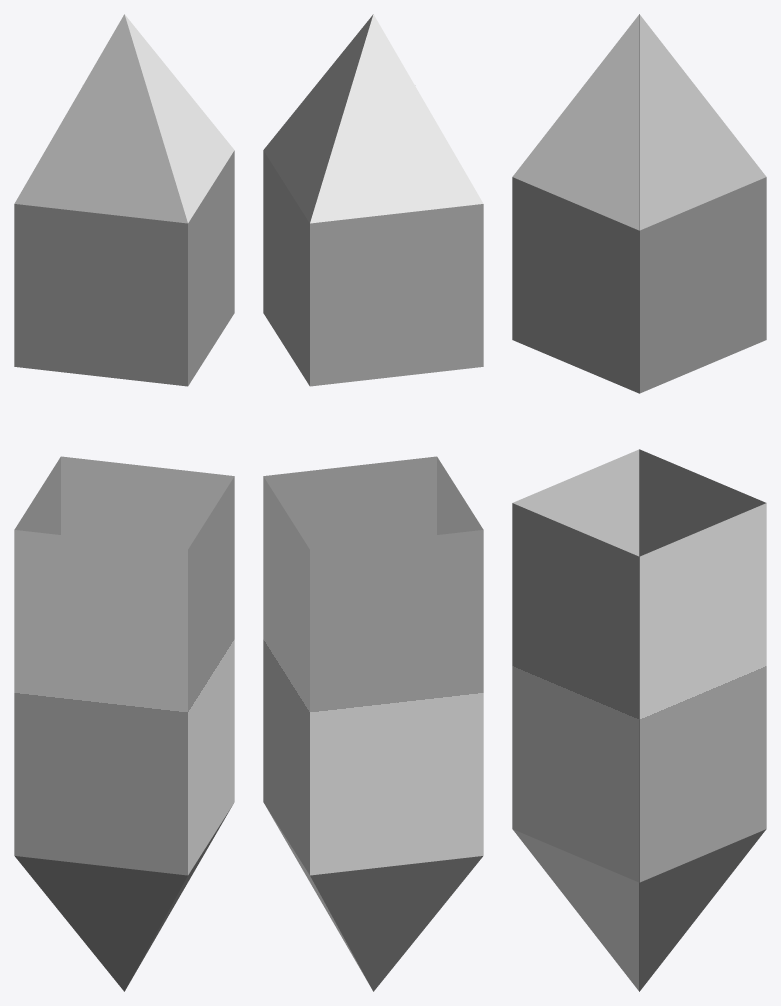
Rendered from variegator_limb_above_tintable.obj.
3 renders of one model, left to right at view 1: azimuth 30°, elevation 25°; view 2: azimuth 150°, elevation 25°; view 3: azimuth 270°, elevation 25°, orthographic.
Visible parts, largest first — view 1: VARIAGATOR_LIMB_ABOVE_TINTABLE_Cube.080; view 2: VARIAGATOR_LIMB_ABOVE_TINTABLE_Cube.080; view 3: VARIAGATOR_LIMB_ABOVE_TINTABLE_Cube.080.
Part boxes in pixels (left/top/right/bottom): VARIAGATOR_LIMB_ABOVE_TINTABLE_Cube.080: left=14, top=14, right=234, bottom=991; VARIAGATOR_LIMB_ABOVE_TINTABLE_Cube.080: left=263, top=14, right=483, bottom=991; VARIAGATOR_LIMB_ABOVE_TINTABLE_Cube.080: left=512, top=14, right=766, bottom=991.
Size of the model in its own units: 0.0884 by 0.375 by 0.0884.
